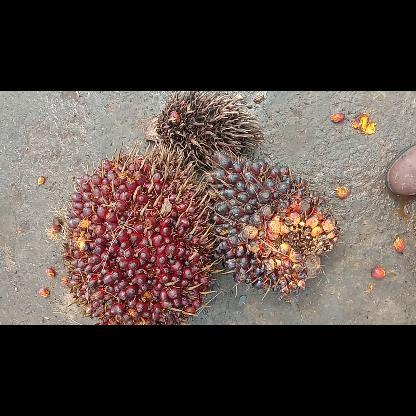Janjang kosong: (141, 90, 263, 168)
TBS masak: (62, 140, 223, 324)
TBS mentah: (204, 152, 340, 298)
